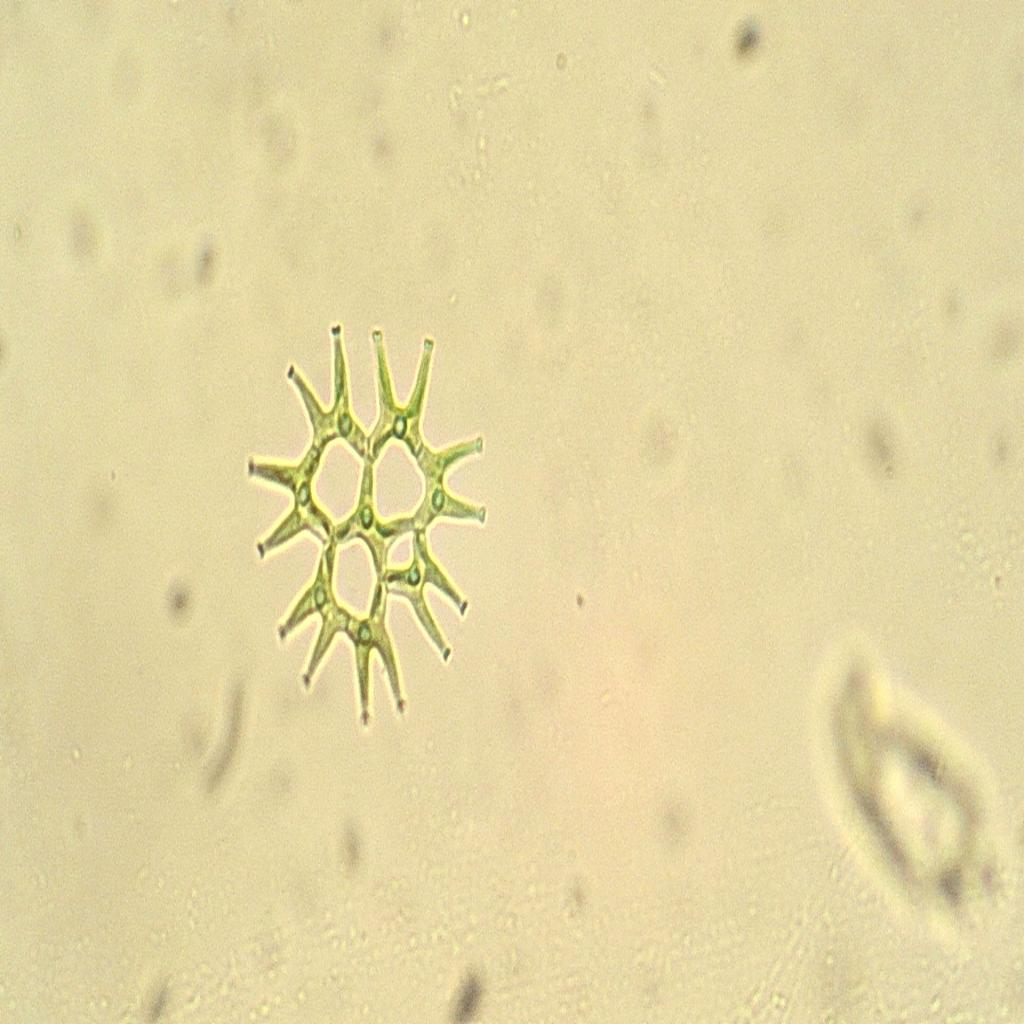Pediastrum_75T: (239, 308, 503, 750)
